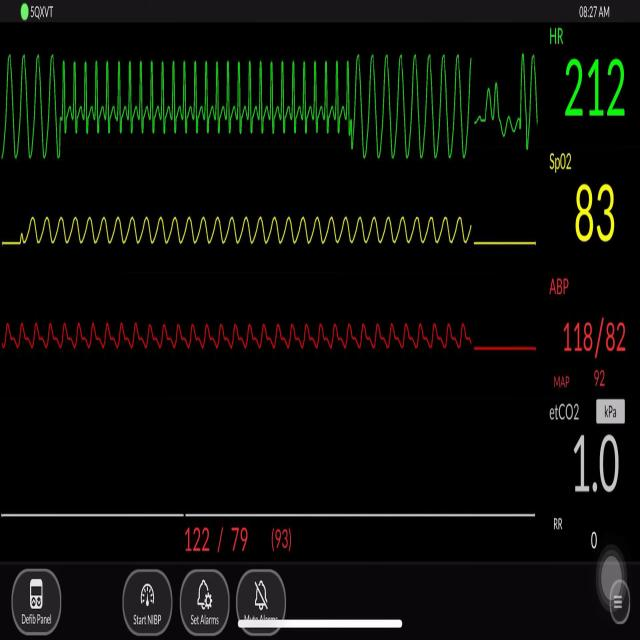danger: (57, 52, 355, 144), (357, 41, 475, 166), (3, 47, 49, 162)
